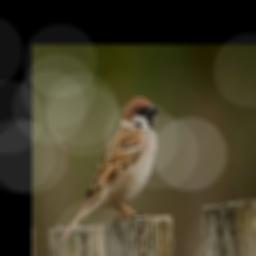Sparrow: (59, 96, 158, 246)
